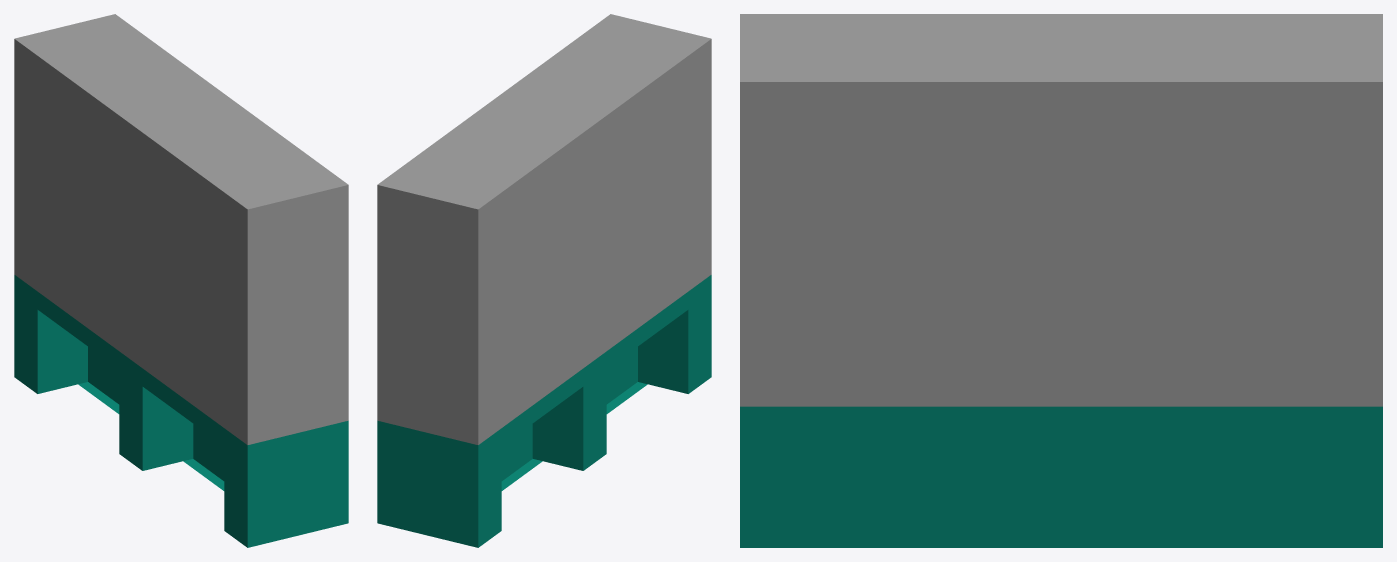
The model's file is Wall_2.fbx.
3 views of the same model, side by side, from view 1: azimuth 30°, elevation 25°; view 2: azimuth 150°, elevation 25°; view 3: azimuth 270°, elevation 25° (orthographic). The views are drawn at different scales.
Visible parts, largest first — view 1: CementPart, WoodPart.003, WoodPart.000, WoodPart.002, WoodPart.004, WoodPart.006, WoodPart.005, WoodPart.001; view 2: CementPart, WoodPart.000, WoodPart.003, WoodPart.002, WoodPart.004, WoodPart.005, WoodPart.006, WoodPart.001; view 3: CementPart, WoodPart.005, WoodPart.006, WoodPart.004, WoodPart.000, WoodPart.003, WoodPart.002.
Part boxes in pixels (box(x1,y1,x2,y2)): CementPart: box(14, 14, 348, 444); WoodPart.003: box(224, 420, 348, 547); WoodPart.000: box(14, 275, 87, 393); WoodPart.002: box(119, 369, 193, 470); WoodPart.004: box(37, 292, 224, 445); WoodPart.006: box(88, 347, 119, 404); WoodPart.005: box(193, 424, 224, 480); WoodPart.001: box(78, 382, 224, 490); CementPart: box(377, 14, 711, 444); WoodPart.000: box(377, 420, 501, 547); WoodPart.003: box(638, 275, 711, 393); WoodPart.002: box(532, 369, 606, 470); WoodPart.004: box(501, 292, 688, 445); WoodPart.005: box(606, 347, 637, 404); WoodPart.006: box(501, 424, 532, 480); WoodPart.001: box(501, 382, 647, 490); CementPart: box(740, 14, 1382, 406); WoodPart.005: box(804, 431, 1029, 547); WoodPart.006: box(1093, 431, 1318, 547); WoodPart.004: box(804, 406, 1318, 431); WoodPart.000: box(1318, 406, 1382, 547); WoodPart.003: box(740, 406, 804, 547); WoodPart.002: box(1029, 431, 1093, 547).
Bounding box in the file's own units: 250 × 800 × 1000.
